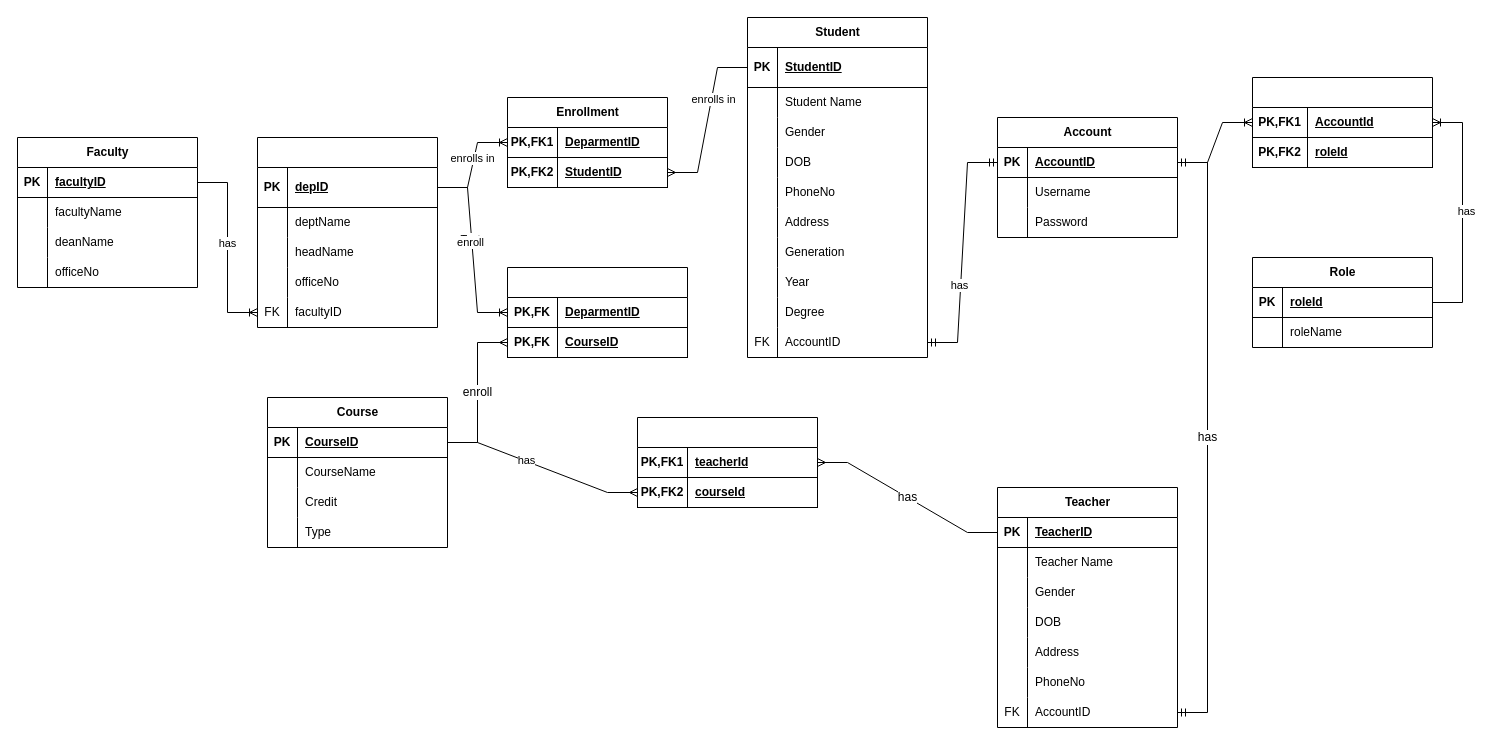
Some shapes in this 1492 by 745 pixel diagram are drawn without their labels. Each missing label, with the box of its shape:
AssignCourse: (636, 416, 818, 508)
Department: (256, 136, 438, 328)
EnrollCourse: (506, 266, 688, 358)
UserRole: (1252, 76, 1432, 168)
